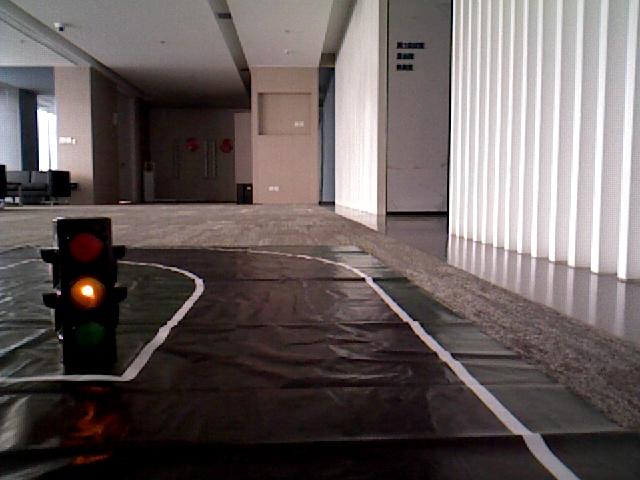yellow: (63, 221, 115, 351)
